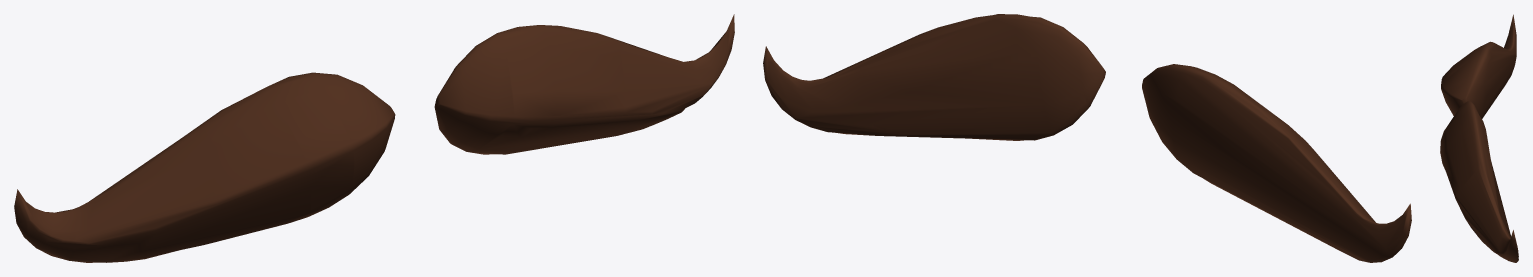
3 views of the same model, side by side, from view 1: azimuth 30°, elevation 25°; view 2: azimuth 150°, elevation 25°; view 3: azimuth 270°, elevation 25° (orthographic). The views are drawn at different scales.
Parts seen in each view (by area): view 1: beardMustacheKnightly; view 2: beardMustacheKnightly; view 3: beardMustacheKnightly.
Boxes of the visible parts, <box> form: beardMustacheKnightly: <box>14,14,734,262</box>; beardMustacheKnightly: <box>763,14,1411,262</box>; beardMustacheKnightly: <box>1440,14,1518,262</box>.
Bounding box in the file's own units: 0.2873 × 0.0598 × 0.0442.
1 material, 1 textured.
